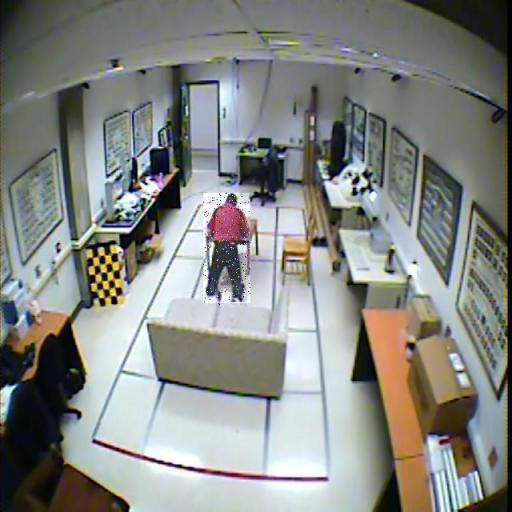Fall: (204, 194, 251, 306)
